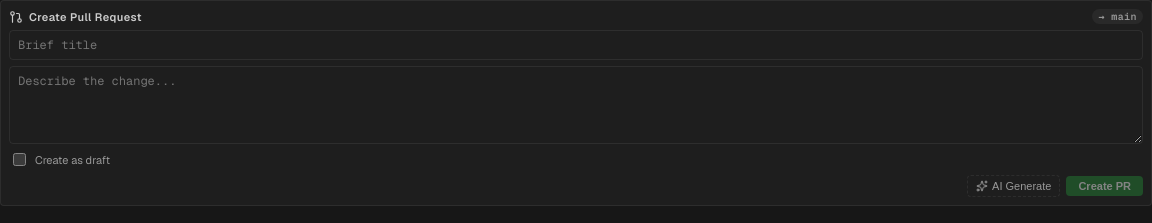
Test: ReviewComposer › AI generate fills title and body
The width and height of the screenshot is (1152, 223).
Click the button with test id "review-ai-btn": (1014, 186) [967,175,1060,197]
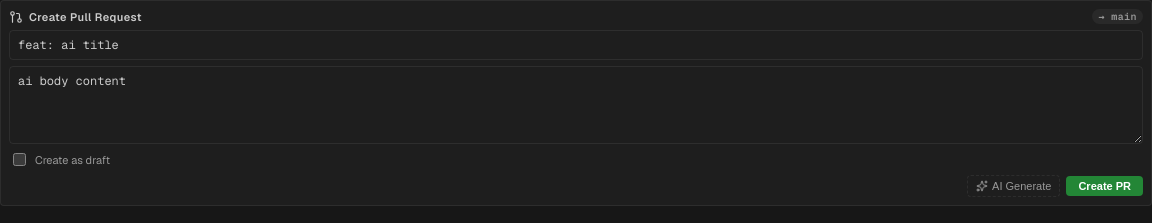
Result: the field with test id "review-title-input" holds "feat: ai title" at [9,30,1143,60]
Result: the text box with test id "review-body-input" holds "ai body content" at [9,66,1143,144]
